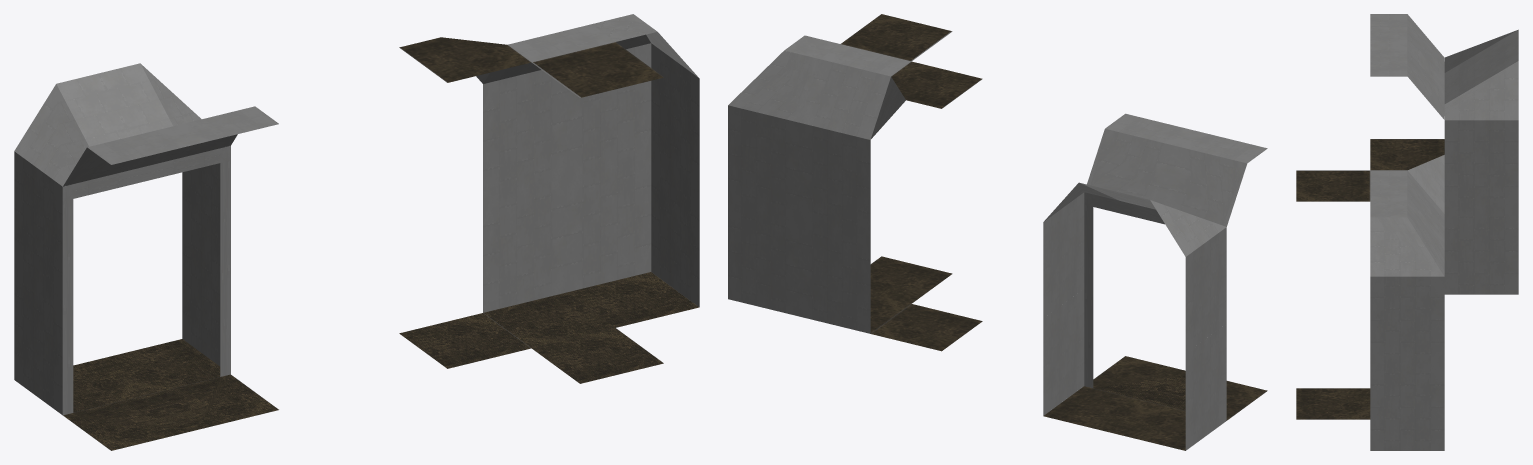
Rendered from tileset.glb.
The picture shows the model from 3 angles, left to right: view 1: azimuth 30°, elevation 25°; view 2: azimuth 150°, elevation 25°; view 3: azimuth 270°, elevation 25°; orthographic projection. The views are drawn at different scales.
Parts seen in each view (by area): view 1: Doorway, WallCornerDefault, WallDefault, WallMiddleDefault, WallMiddleCornerDefault; view 2: Doorway, WallDefault, WallCornerDefault, WallMiddleCornerDefault, WallMiddleDefault; view 3: Doorway, WallCornerDefault, WallMiddleDefault, WallMiddleCornerDefault, WallDefault.
Boxes of the visible parts, bbox=[...] form: Doorway: bbox=[14, 63, 278, 450]; WallCornerDefault: bbox=[567, 14, 699, 327]; WallDefault: bbox=[483, 24, 615, 348]; WallMiddleDefault: bbox=[532, 42, 663, 383]; WallMiddleCornerDefault: bbox=[399, 37, 531, 368]; Doorway: bbox=[1043, 113, 1267, 450]; WallDefault: bbox=[799, 44, 911, 333]; WallCornerDefault: bbox=[728, 35, 839, 316]; WallMiddleCornerDefault: bbox=[871, 61, 982, 351]; WallMiddleDefault: bbox=[841, 14, 952, 303]; Doorway: bbox=[1370, 14, 1518, 294]; WallCornerDefault: bbox=[1370, 201, 1444, 450]; WallMiddleDefault: bbox=[1296, 170, 1370, 419]; WallMiddleCornerDefault: bbox=[1370, 139, 1444, 213]; WallDefault: bbox=[1370, 170, 1444, 244].
Bounding box in the file's own units: 7 × 3.25 × 3.
Materials: 1 (1 with a texture image).
